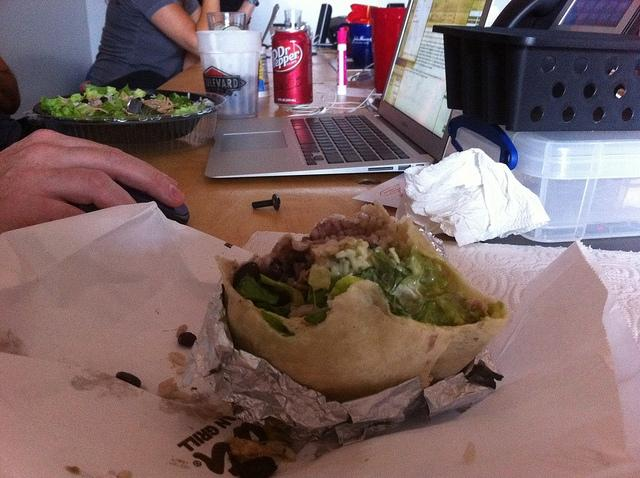lettuce: (389, 246, 456, 315), (252, 274, 304, 318), (358, 252, 407, 295), (235, 274, 282, 306), (324, 275, 364, 300), (51, 98, 75, 118), (74, 102, 95, 117), (171, 106, 198, 117), (86, 88, 105, 100), (114, 96, 128, 112), (134, 88, 146, 98)
